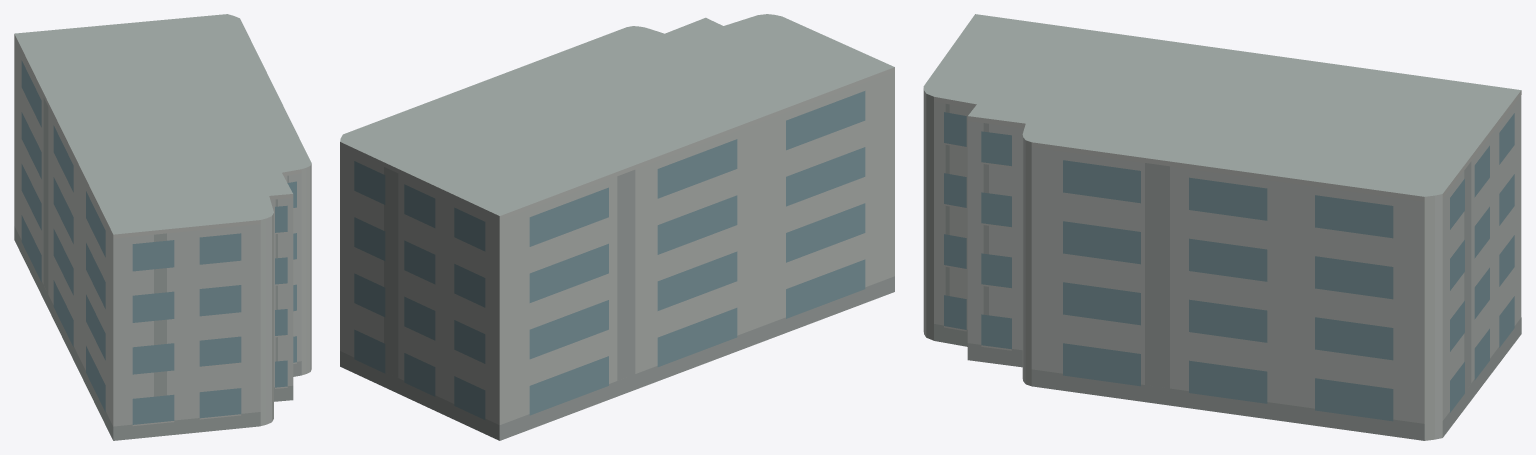
File: survey-upis-32890563.glb
3 renders of one model, left to right at view 1: azimuth 30°, elevation 25°; view 2: azimuth 150°, elevation 25°; view 3: azimuth 270°, elevation 25°, orthographic. The views are drawn at different scales.
Visible parts, largest first — view 1: survey-upis-32890563.tmp; view 2: survey-upis-32890563.tmp; view 3: survey-upis-32890563.tmp.
Part boxes in pixels (x1,y1,x2,y2): survey-upis-32890563.tmp: [14, 14, 311, 440]; survey-upis-32890563.tmp: [340, 14, 894, 440]; survey-upis-32890563.tmp: [923, 14, 1521, 440].
Bounding box in the file's own units: 19.61 × 12.2 × 27.09.
